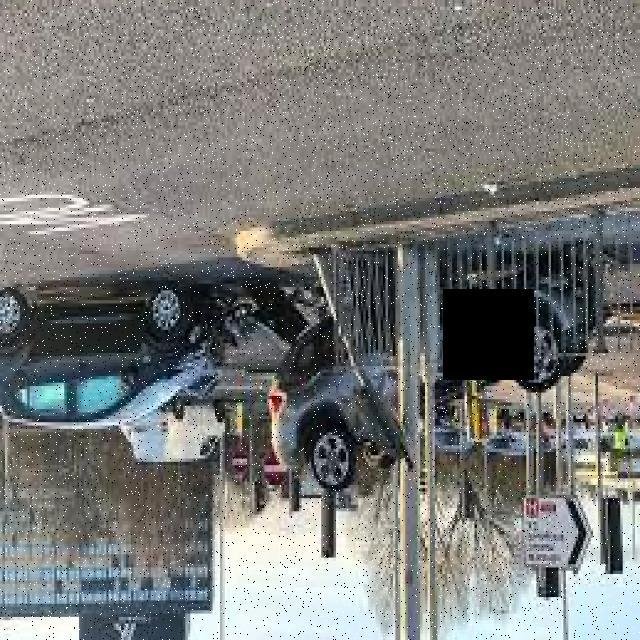severe: (256, 249, 610, 500)
